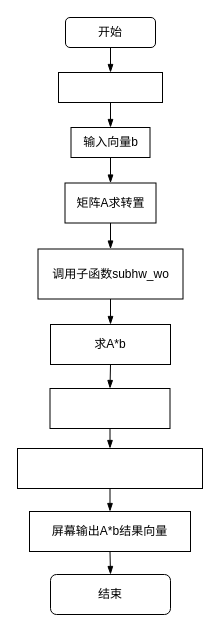
Image size: 220x632. Some labels were removed from this diagram. The centre of each missing label's shape, as x and y in pixels:
"屏幕输出b^T*A*b结果数值" belongs at point 109,468.
"求b^T*A*b" belongs at point 109,408.
"输入5x5矩阵A" belongs at point 110,87.
